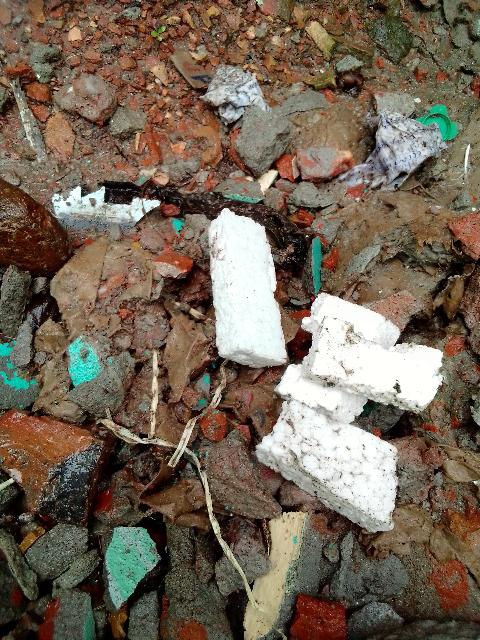cocksheet: (198, 186, 456, 543)
